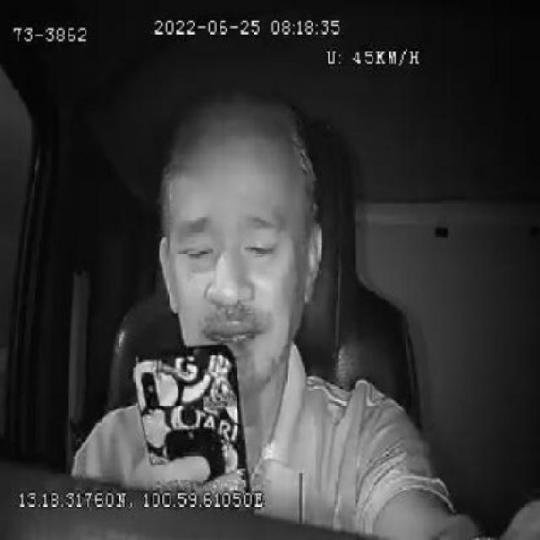phone: (132, 346, 254, 490)
